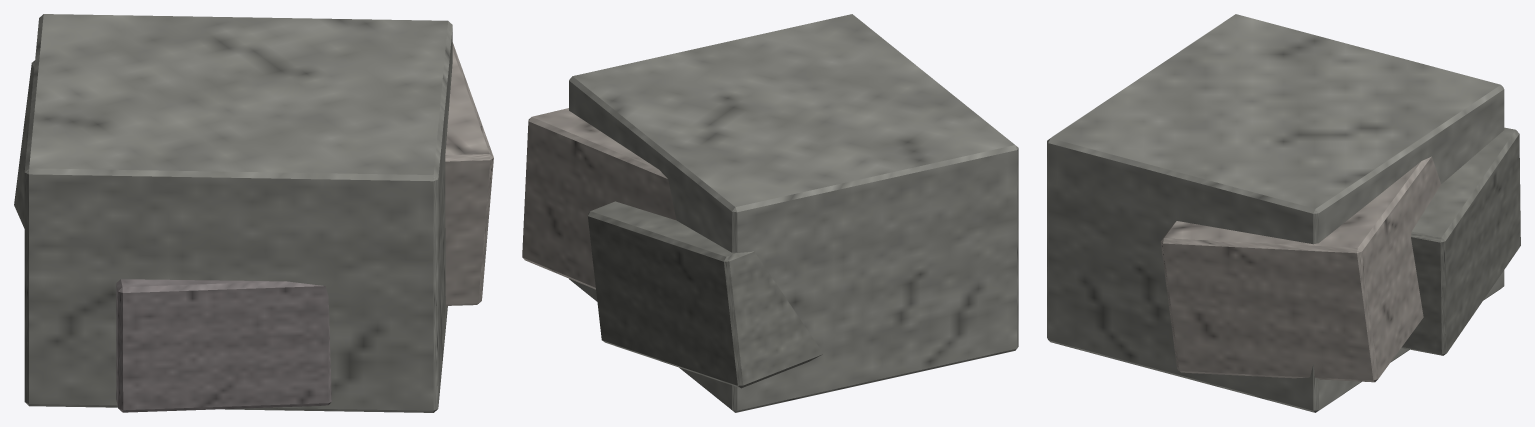
File: Rocher_Grand_A.obj
3 views of the same model, side by side, from view 1: azimuth 30°, elevation 25°; view 2: azimuth 150°, elevation 25°; view 3: azimuth 270°, elevation 25° (orthographic). The views are drawn at different scales.
Visible parts, largest first — view 1: Rocher_Grand_A; view 2: Rocher_Grand_A; view 3: Rocher_Grand_A.
Part boxes in pixels (bbox=[...]): Rocher_Grand_A: bbox=[14, 14, 493, 412]; Rocher_Grand_A: bbox=[522, 14, 1018, 412]; Rocher_Grand_A: bbox=[1047, 14, 1520, 412].
Size of the model in its own units: 7.46 by 3.49 by 7.2.
Materials: 1 (1 with a texture image).
